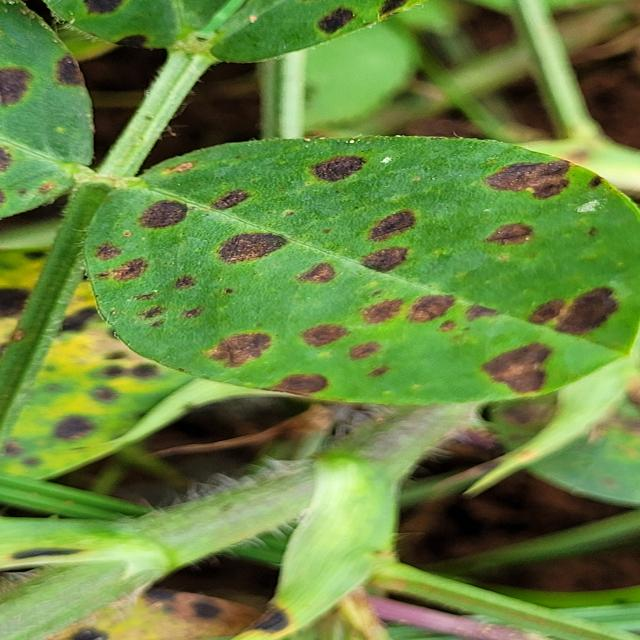Ground nut_tikka leaf spot: (88, 132, 640, 401)
